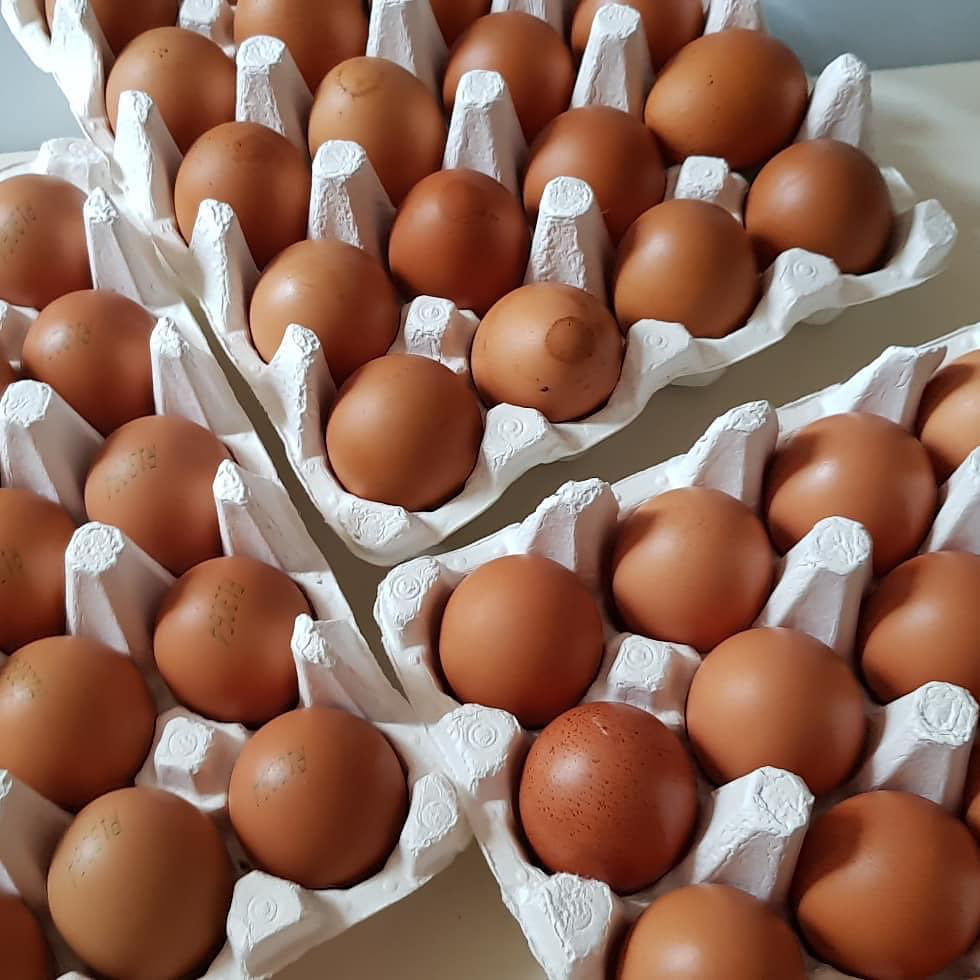egg: (35, 1, 905, 503), (436, 362, 980, 975), (2, 168, 411, 980)
